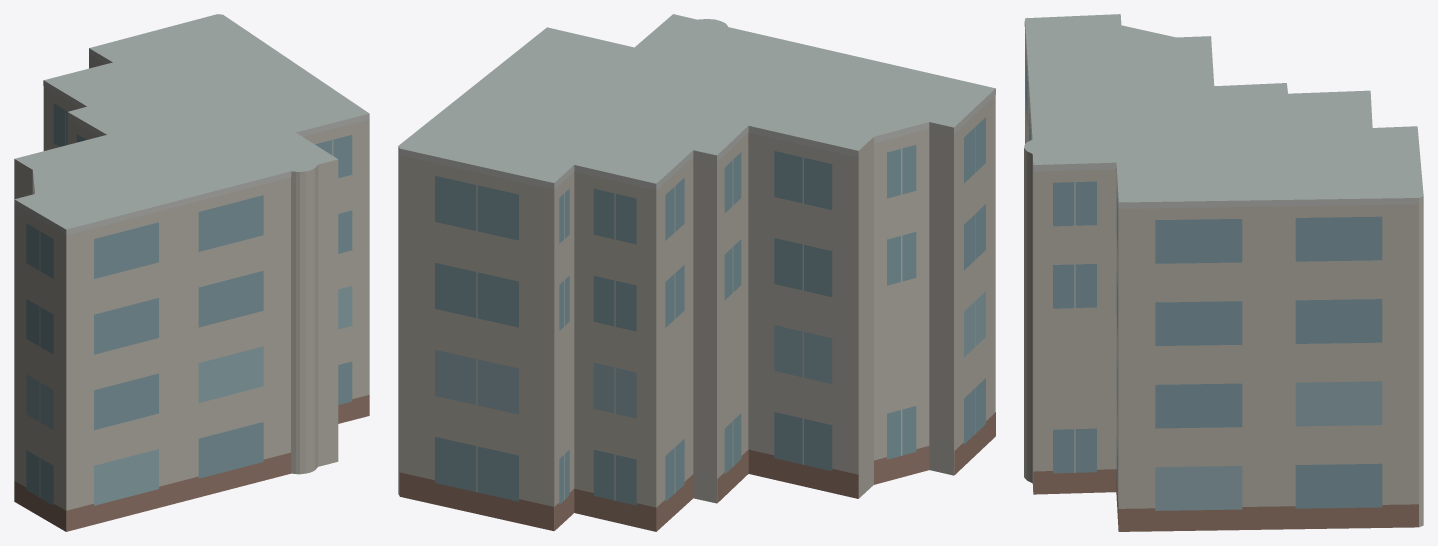
Rendered from survey-upis-32471935.glb.
The picture shows the model from 3 angles, left to right: view 1: azimuth 30°, elevation 25°; view 2: azimuth 150°, elevation 25°; view 3: azimuth 270°, elevation 25°; orthographic projection. The views are drawn at different scales.
Visible parts, largest first — view 1: survey-upis-32471935.tmp; view 2: survey-upis-32471935.tmp; view 3: survey-upis-32471935.tmp.
Boxes of the visible parts, x1=… form: survey-upis-32471935.tmp: x1=14, y1=14, x2=369, y2=531; survey-upis-32471935.tmp: x1=398, y1=14, x2=995, y2=531; survey-upis-32471935.tmp: x1=1024, y1=14, x2=1423, y2=531.
Size of the model in its own units: 15.47 by 12.6 by 13.86.
